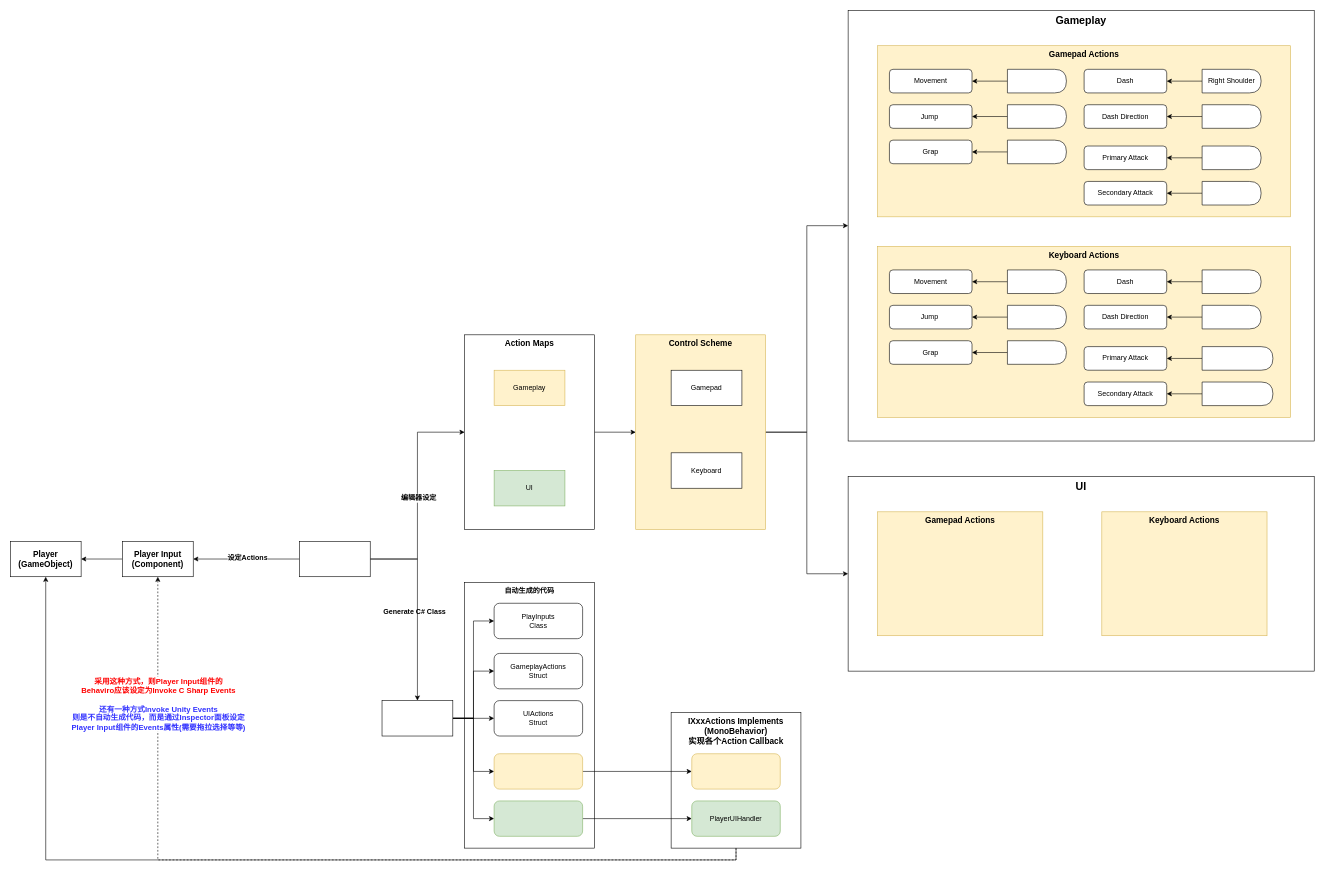
The diagram is 1325 pixels wide and 875 high, and some of its shapes have lost their labels. Each missing label, with the centre of its shape:
"Button North" goes at pixel 1231 193.
"Button South" goes at pixel 1036 116.
"Button West" goes at pixel 1231 157.
"Ctrl" goes at pixel 1036 352.
"IGameplayActions Interface" goes at pixel 538 771.
"IUIActions Interface" goes at pixel 538 818.
"J or Left Button(Mouse)" goes at pixel 1237 358.
"K or Right Button(Mouse)" goes at pixel 1237 393.
"Left Stick" goes at pixel 1231 116.
"Left Stick (Stick DeadZone)" goes at pixel 1036 81.
"Player Input Actions" goes at pixel 334 559.
"PlayerGameplayHandler" goes at pixel 735 771.
"PlayerInputs.cs" goes at pixel 417 718.
"Position(Mouse)" goes at pixel 1231 317.
"Right Triiger" goes at pixel 1036 152.
"Shift" goes at pixel 1231 281.
"Space" goes at pixel 1036 317.
"WASD" goes at pixel 1036 281.
